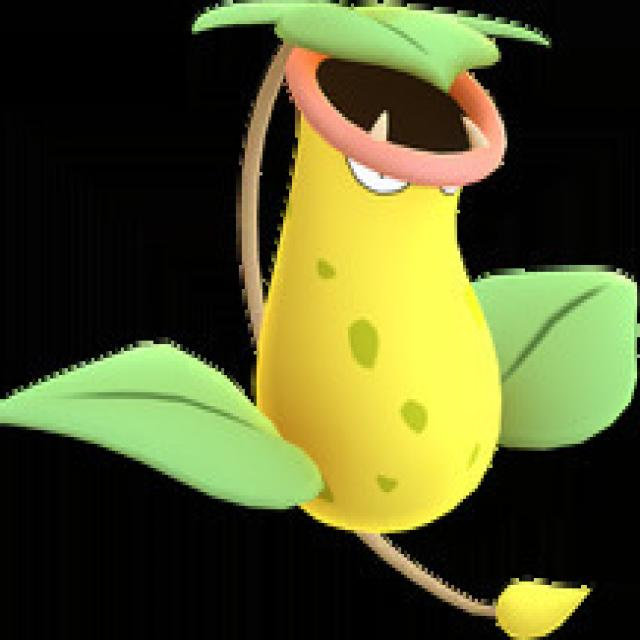Victreebel: (239, 10, 515, 528)
